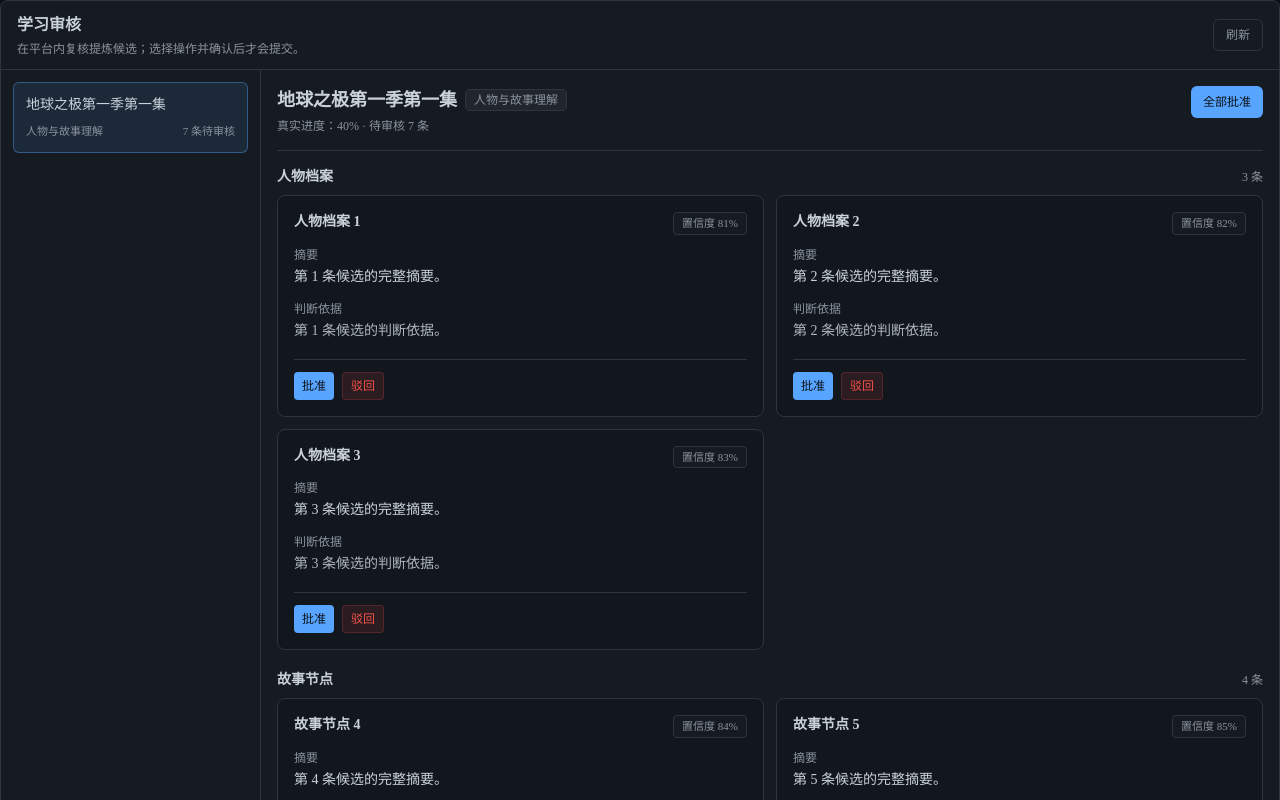
Scenario: DirectorLearningReviewPanel › prepares without confirming and shows the dialog only after the batch is fixed
Click the button with aria-label "批准：人物档案 1": (314, 386) [294,372,334,400]
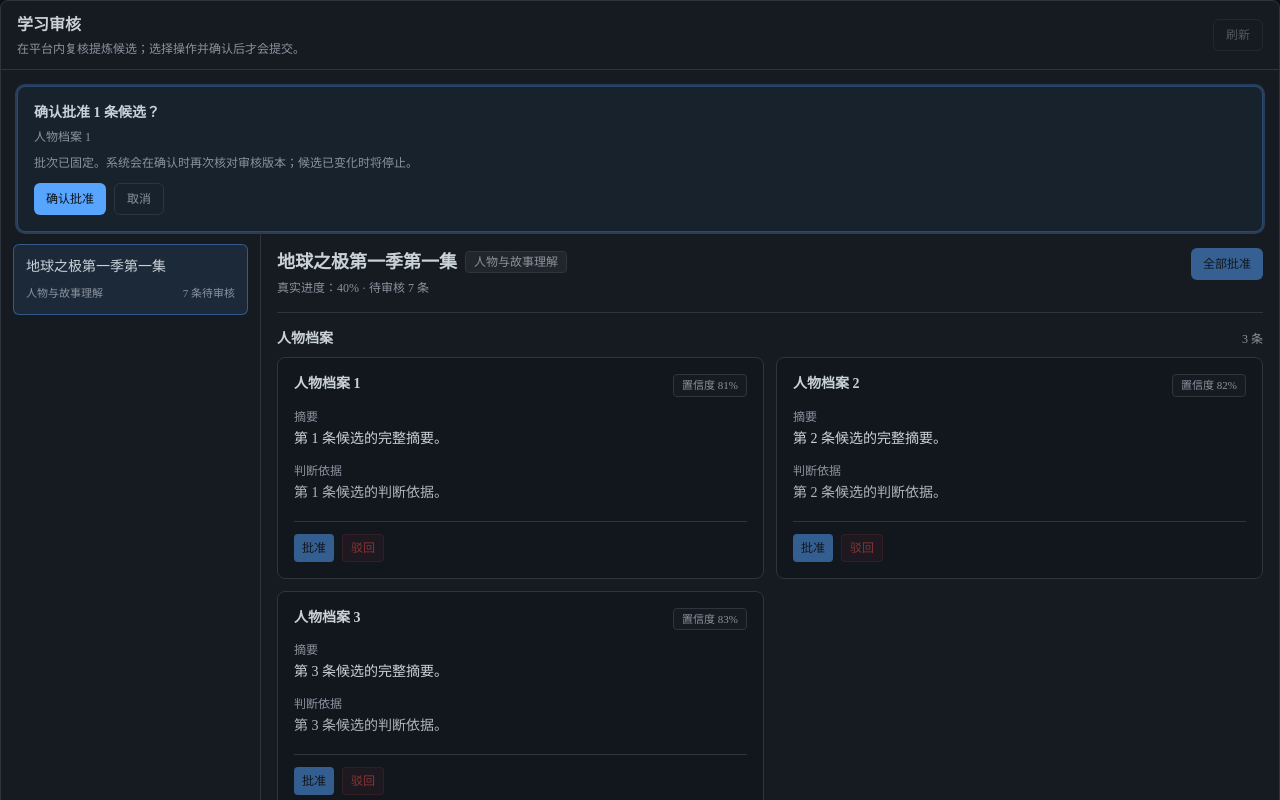
Check: the heading "确认批准 1 条候选？" is shown, box [34,105,160,120]
